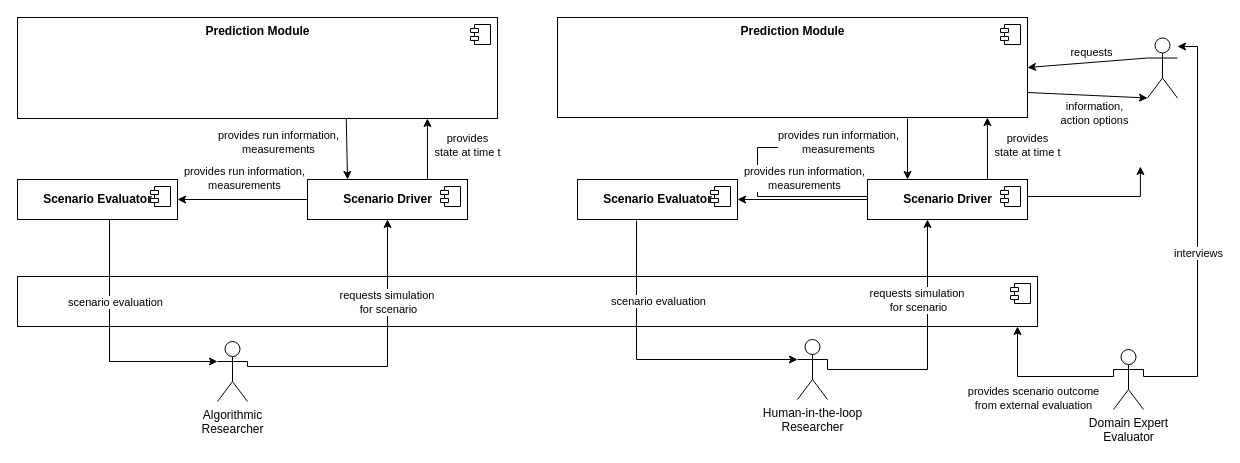
The diagram is 1240 pixels wide and 463 high, and some of its shapes have lost their labels. The centre of each missing label's shape, as x and y in pixels:
FA Benchmark Web+Backend: the point at 527,301
Operator: the point at 1162,67
